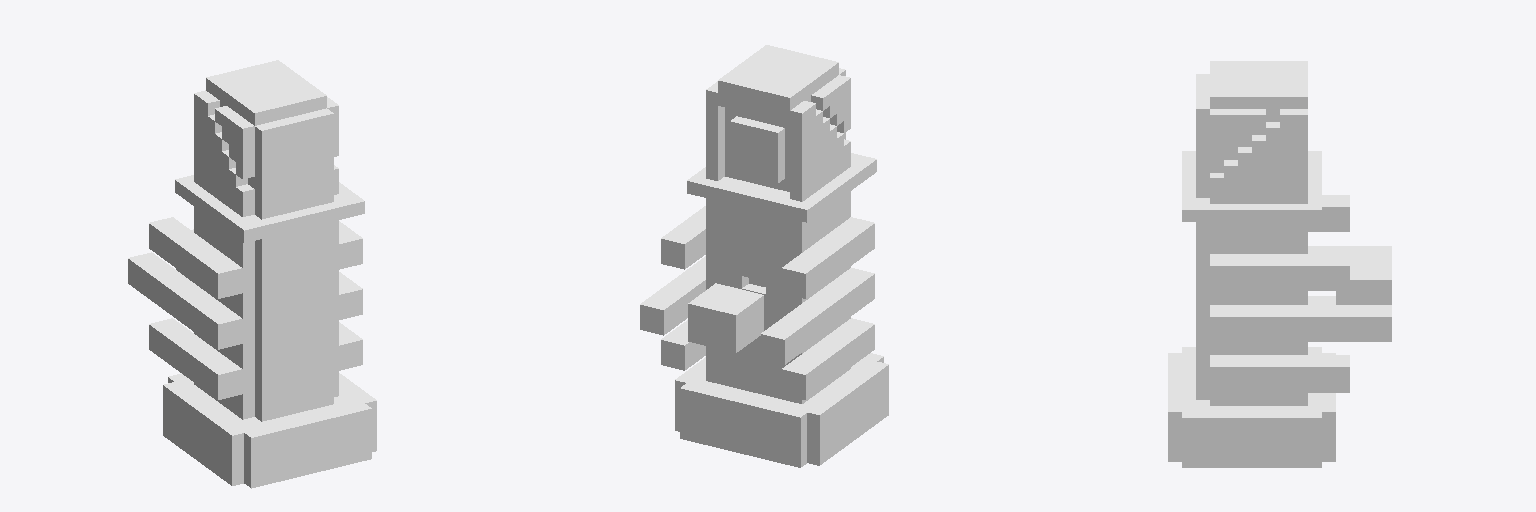
File: ram.blue.obj
The picture shows the model from 3 angles: view 1: azimuth 30°, elevation 25°; view 2: azimuth 150°, elevation 25°; view 3: azimuth 270°, elevation 25°; orthographic projection.
Visible parts, largest first — view 1: object 1; view 2: object 1; view 3: object 1.
Part boxes in pixels (x1,y1,x2,y2): object 1: (128, 60, 376, 488); object 1: (640, 45, 888, 467); object 1: (1168, 61, 1391, 467).
Size of the model in its own units: 1.2 by 2.8 by 1.6.